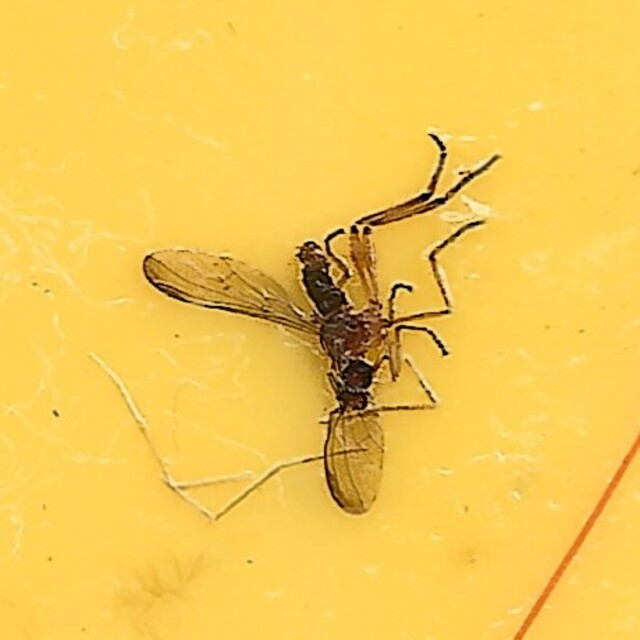Nematocera: (139, 126, 501, 514)
